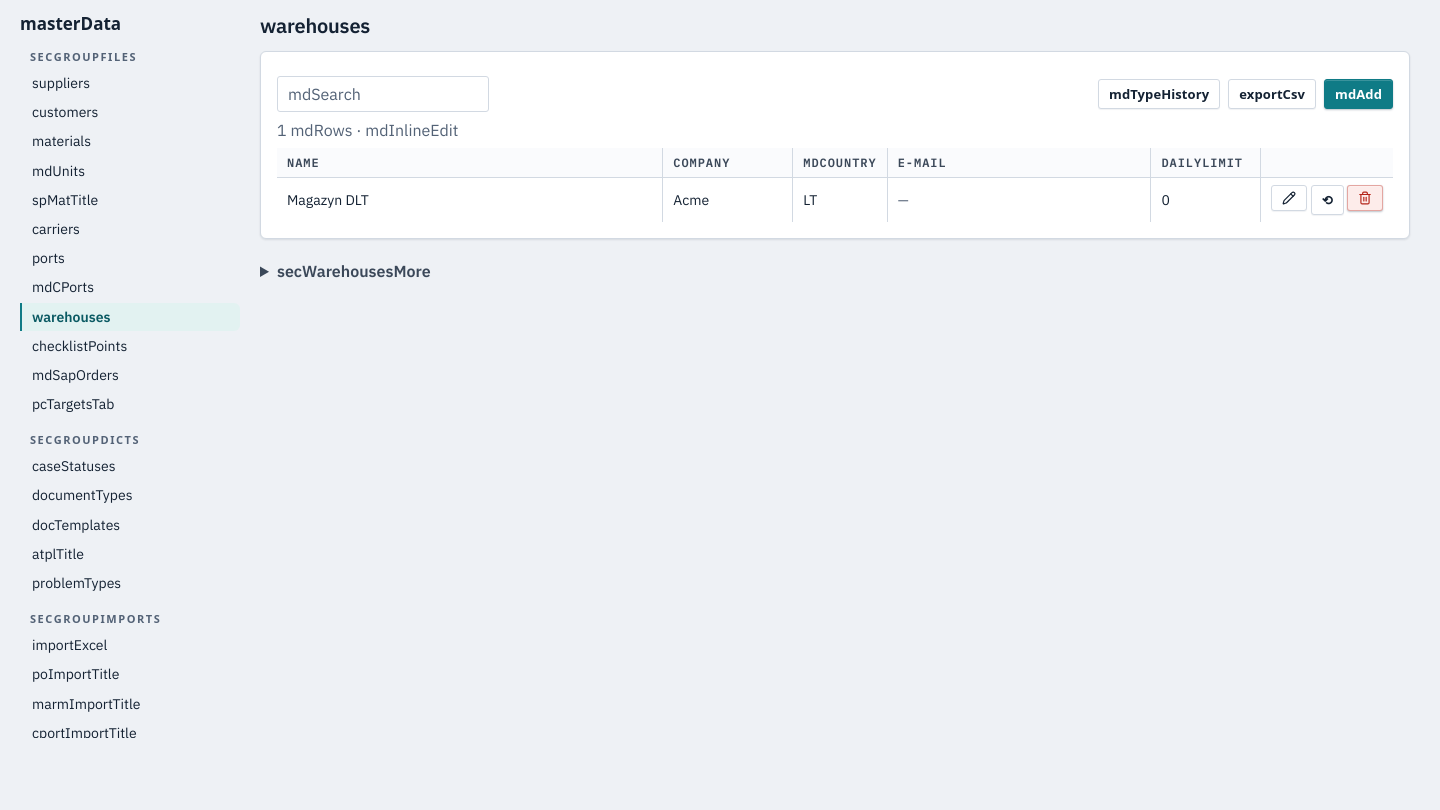
MasterDataPage › słownik magazynów: własna sekcja z wyszukiwarką
Expected: the text "Magazyn DLT" is shown, [277,178,663,222]
Type "xxx" into the field with placeholder "mdSearch" at x=383, y=94, box [277,76,489,112]
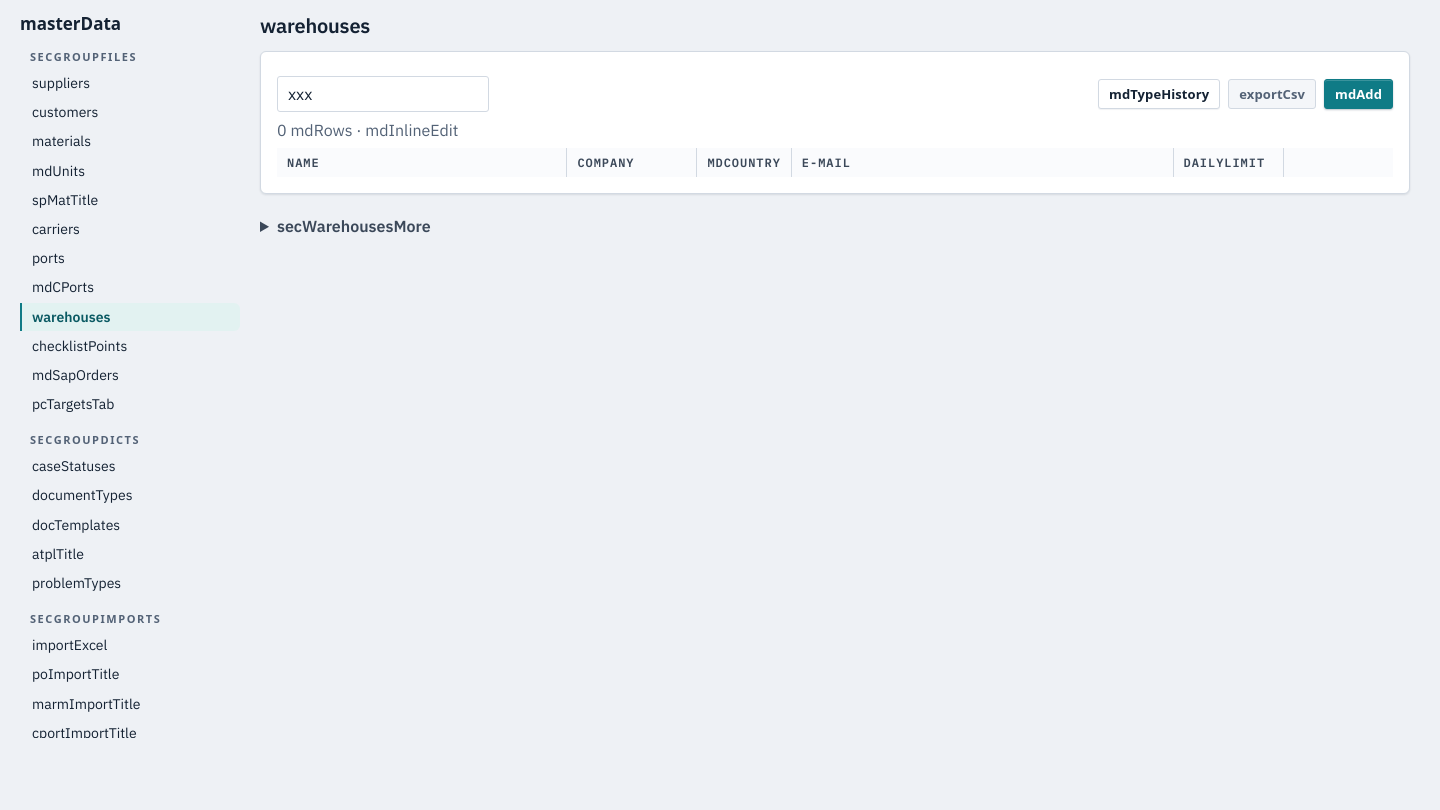
Now the text "Magazyn DLT" is gone
